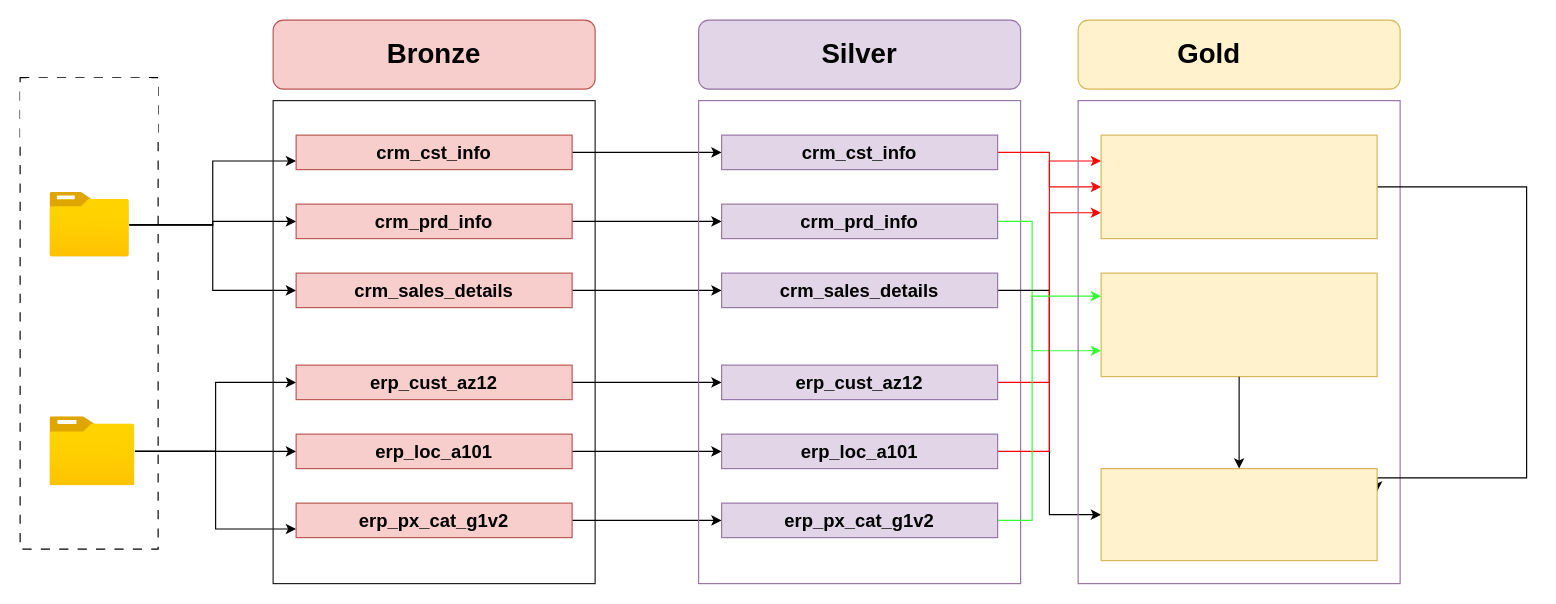
Image size: 1556x604. Some labels were removed from this diagram. The centre of each missing label's shape, as x and y in pixels:
CRM: the point at 89,224
dim_customers: the point at 1238,186
dim_products: the point at 1238,324
ERP: the point at 91,450
fact_sales: the point at 1238,514
Sources: the point at 89,111
